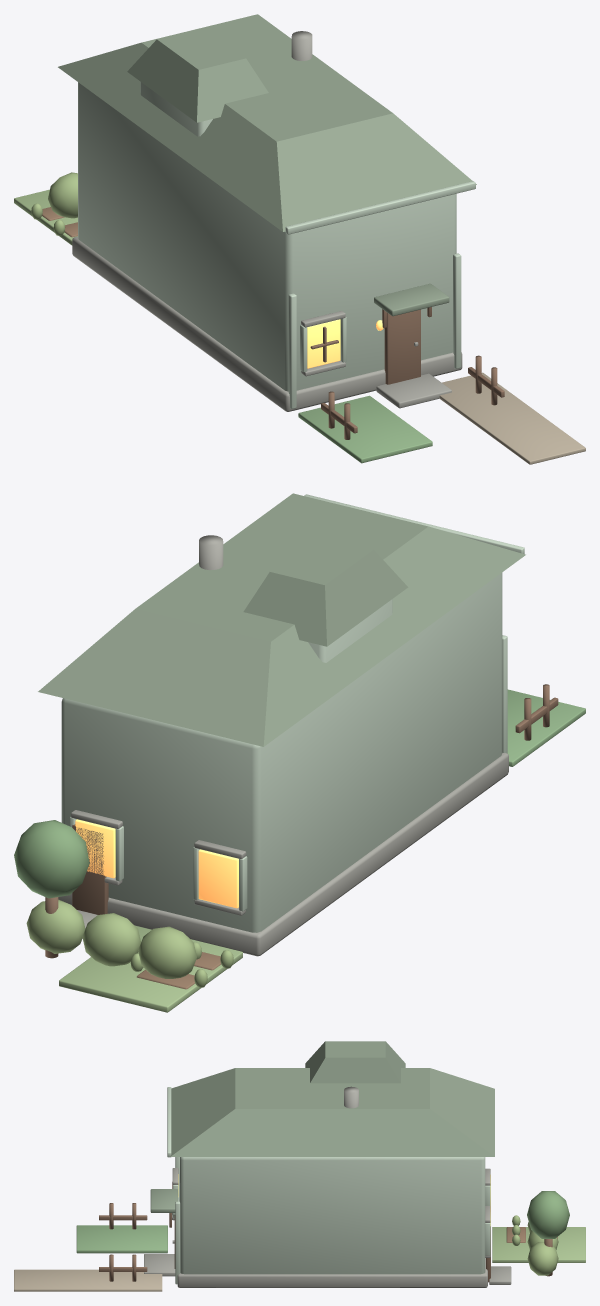
Rendered from garden_lane_house_v1.c15b6c3f8360.glb.
3 renders of one model, top to bottom at view 1: azimuth 30°, elevation 25°; view 2: azimuth 150°, elevation 25°; view 3: azimuth 270°, elevation 25°, orthographic. The views are drawn at different scales.
Visible parts, largest first — view 1: MainBody, MainRoof, TowerCap, StonePlinth, Driveway, FrontGreenVerge, PublicDoor, FrontFascia, PublicStep, DoorCanopy, FrontWindow1, Hedge1 (+5 smaller); view 2: MainBody, MainRoof, TowerCap, StonePlinth, YardTreeCrown, RearYardPatch, FrontGreenVerge, Hedge1, Hedge2, Hedge3, RearWindow1, ServiceDoor (+5 smaller); view 3: MainBody, MainRoof, StonePlinth, TowerCap, Driveway, FrontGreenVerge, RearYardPatch, YardTreeCrown, Hedge3, PublicStep, DoorCanopy, CornerQuoin (+2 smaller).
Boxes of the visible parts, left/top/right/bottom form: MainBody: left=78, top=82, right=456, bottom=391; MainRoof: left=58, top=14, right=476, bottom=231; TowerCap: left=127, top=28, right=268, bottom=122; StonePlinth: left=72, top=236, right=462, bottom=411; Driveway: left=439, top=372, right=585, bottom=464; FrontGreenVerge: left=298, top=395, right=432, bottom=463; PublicDoor: left=384, top=309, right=420, bottom=384; FrontFascia: left=285, top=181, right=475, bottom=234; PublicStep: left=376, top=373, right=451, bottom=408; DoorCanopy: left=374, top=283, right=449, bottom=316; FrontWindow1: left=307, top=319, right=340, bottom=368; Hedge1: left=48, top=172, right=77, bottom=218; MainBody: left=61, top=572, right=502, bottom=932; MainRoof: left=38, top=493, right=525, bottom=746; TowerCap: left=243, top=536, right=408, bottom=646; StonePlinth: left=58, top=753, right=508, bottom=956; YardTreeCrown: left=14, top=820, right=89, bottom=898; RearYardPatch: left=59, top=925, right=242, bottom=1012; FrontGreenVerge: left=507, top=689, right=585, bottom=766; Hedge1: left=138, top=926, right=196, bottom=978; Hedge2: left=82, top=913, right=140, bottom=966; Hedge3: left=26, top=899, right=85, bottom=953; RearWindow1: left=198, top=849, right=238, bottom=908; ServiceDoor: left=72, top=824, right=108, bottom=914; MainBody: left=180, top=1157, right=485, bottom=1274; MainRoof: left=170, top=1068, right=494, bottom=1156; StonePlinth: left=177, top=1258, right=487, bottom=1287; TowerCap: left=305, top=1041, right=405, bottom=1083; Driveway: left=14, top=1269, right=162, bottom=1291; FrontGreenVerge: left=76, top=1225, right=167, bottom=1253; RearYardPatch: left=492, top=1227, right=585, bottom=1262; YardTreeCrown: left=527, top=1191, right=569, bottom=1238; Hedge3: left=527, top=1242, right=558, bottom=1275; PublicStep: left=144, top=1254, right=175, bottom=1276; DoorCanopy: left=150, top=1189, right=177, bottom=1212; CornerQuoin: left=175, top=1201, right=180, bottom=1284.
Size of the model in its own units: 6.04 by 7.85 by 21.34.
